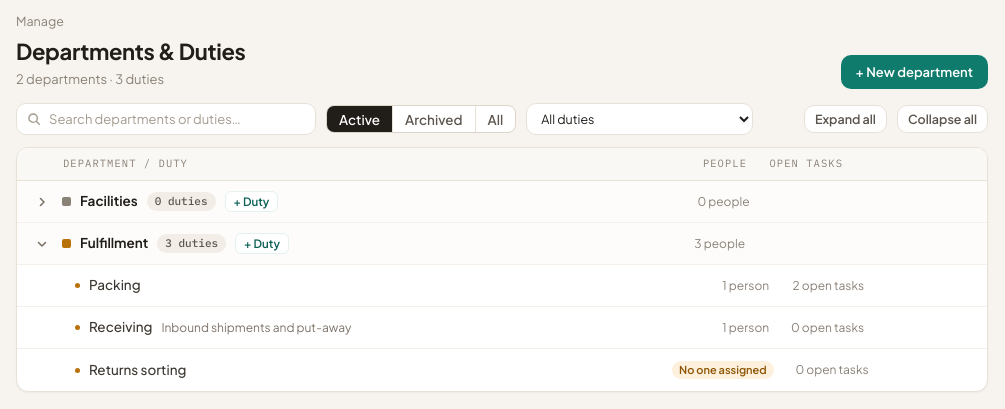
DepartmentsPage › search matches duty descriptions and highlights them
Expected: the text "Packing" is shown, [89,275,141,296]
Type "put-away" into the field labelled "Search departments or duties" at [166, 119], box [16,103,316,135]
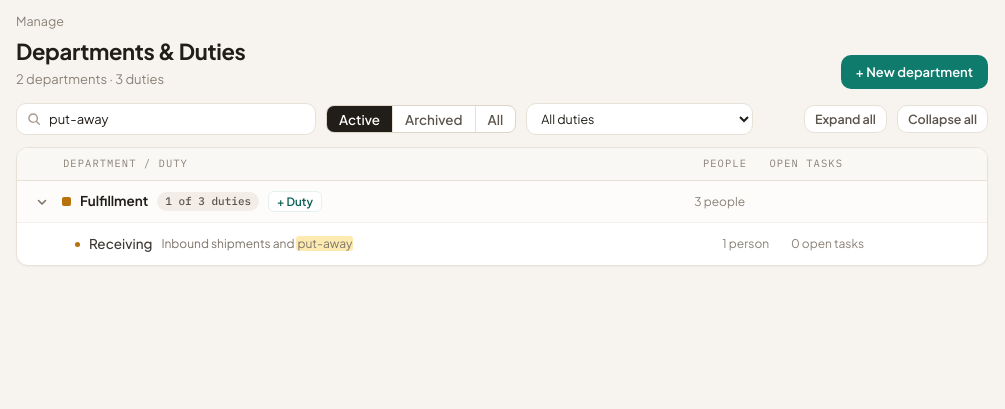
Expected: the text "Receiving" is shown, [89,234,152,254]
Expected: the text "Packing" is gone
Expected: the text "1 of 3 duties" is shown, [157,192,259,211]
